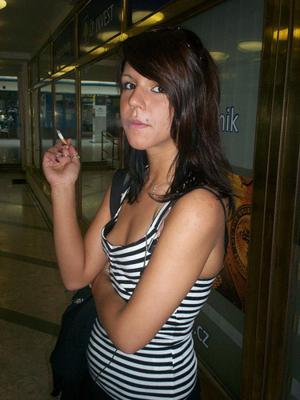person: (44, 28, 228, 398)
